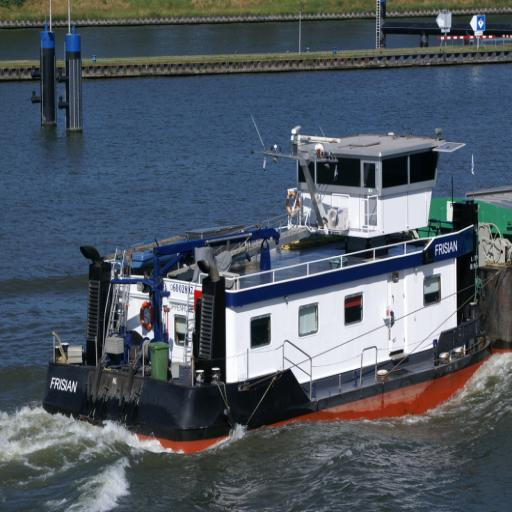tugboat: (42, 121, 497, 467)
